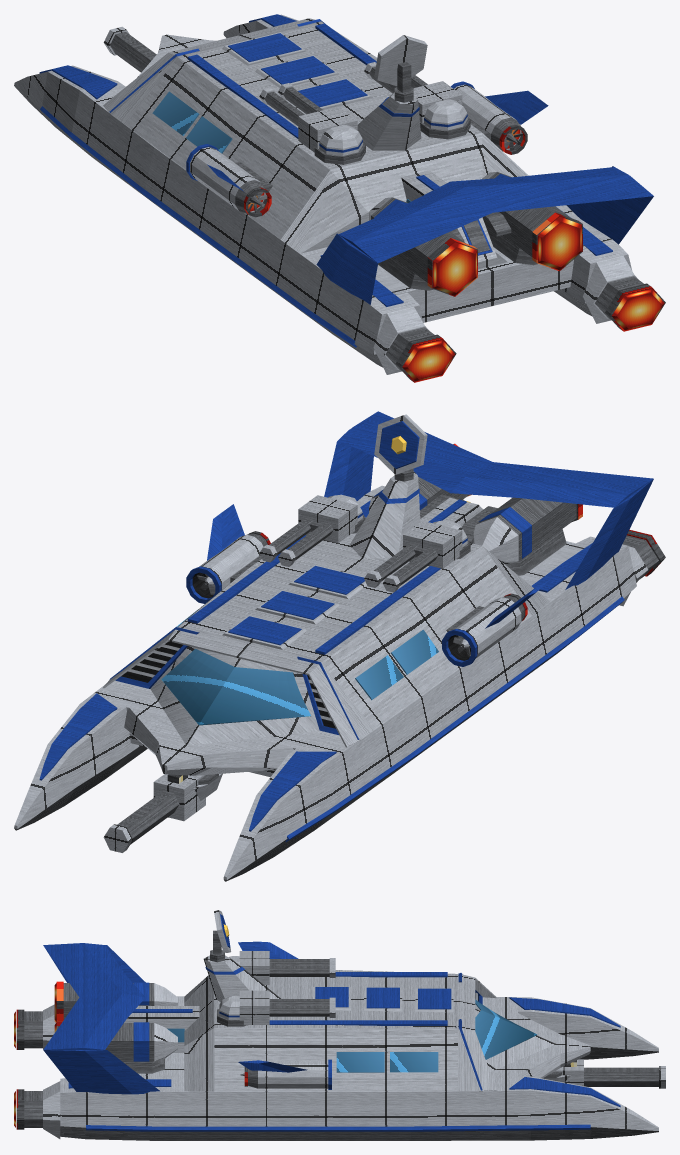
Rendered from giant_petrel.glb.
The picture shows the model from 3 angles, top to bottom: view 1: azimuth 30°, elevation 25°; view 2: azimuth 150°, elevation 25°; view 3: azimuth 270°, elevation 25°; orthographic projection. The views are drawn at different scales.
Visible parts, largest first — view 1: deckhouse, hull, stern_wing, cross_deck, mast, fin.002, chine_stripe, hull.001, fin.003, turbine, cowl, exhaust.004 (+36 smaller); view 2: deckhouse, hull, stern_wing, hull.001, centre_bow, deckhouse.001, bridge_glass.001, cowl, mast, bridge_glass, fin.002, chine_stripe (+30 smaller); view 3: hull.001, deckhouse, stern_wing, hull_low.001, hull, fin.003, chine_stripe.001, centre_bow, cowl, turbine.001, bridge_glass, mast (+38 smaller).
Boxes of the visible parts, left/top/right/bottom form: deckhouse: left=125, top=22, right=528, bottom=253; hull: left=14, top=65, right=422, bottom=354; stern_wing: left=339, top=167, right=653, bottom=263; cross_deck: left=122, top=88, right=586, bottom=322; mast: left=357, top=92, right=421, bottom=150; fin.002: left=316, top=233, right=377, bottom=304; chine_stripe: left=40, top=106, right=356, bottom=347; hull.001: left=223, top=14, right=631, bottom=303; fin.003: left=566, top=166, right=653, bottom=244; turbine: left=190, top=147, right=265, bottom=212; cowl: left=103, top=18, right=323, bottom=114; exhaust.004: left=432, top=242, right=477, bottom=295; deckhouse: left=178, top=517, right=549, bottom=729; hull: left=223, top=536, right=636, bottom=879; stern_wing: left=338, top=411, right=653, bottom=507; hull.001: left=14, top=485, right=385, bottom=828; centre_bow: left=124, top=708, right=293, bottom=775; deckhouse.001: left=150, top=646, right=320, bottom=745; bridge_glass.001: left=199, top=667, right=310, bottom=725; cowl: left=103, top=626, right=360, bottom=747; mast: left=349, top=471, right=420, bottom=558; bridge_glass: left=161, top=649, right=234, bottom=724; fin.002: left=565, top=479, right=653, bottom=589; chine_stripe: left=285, top=596, right=624, bottom=841; hull.001: left=60, top=1075, right=658, bottom=1130; deckhouse: left=184, top=970, right=457, bottom=1091; stern_wing: left=43, top=943, right=145, bottom=1049; hull_low.001: left=60, top=1126, right=658, bottom=1140; hull: left=177, top=996, right=658, bottom=1051; fin.003: left=43, top=1050, right=159, bottom=1094; chine_stripe.001: left=86, top=1124, right=590, bottom=1131; centre_bow: left=518, top=1013, right=590, bottom=1078; cowl: left=458, top=973, right=496, bottom=1091; turbine.001: left=258, top=1061, right=328, bottom=1088; bridge_glass: left=475, top=1010, right=536, bottom=1059; mast: left=203, top=955, right=280, bottom=1002.
Size of the model in its own units: 66.76 by 48.56 by 152.
Materials: 12 (12 with a texture image).
